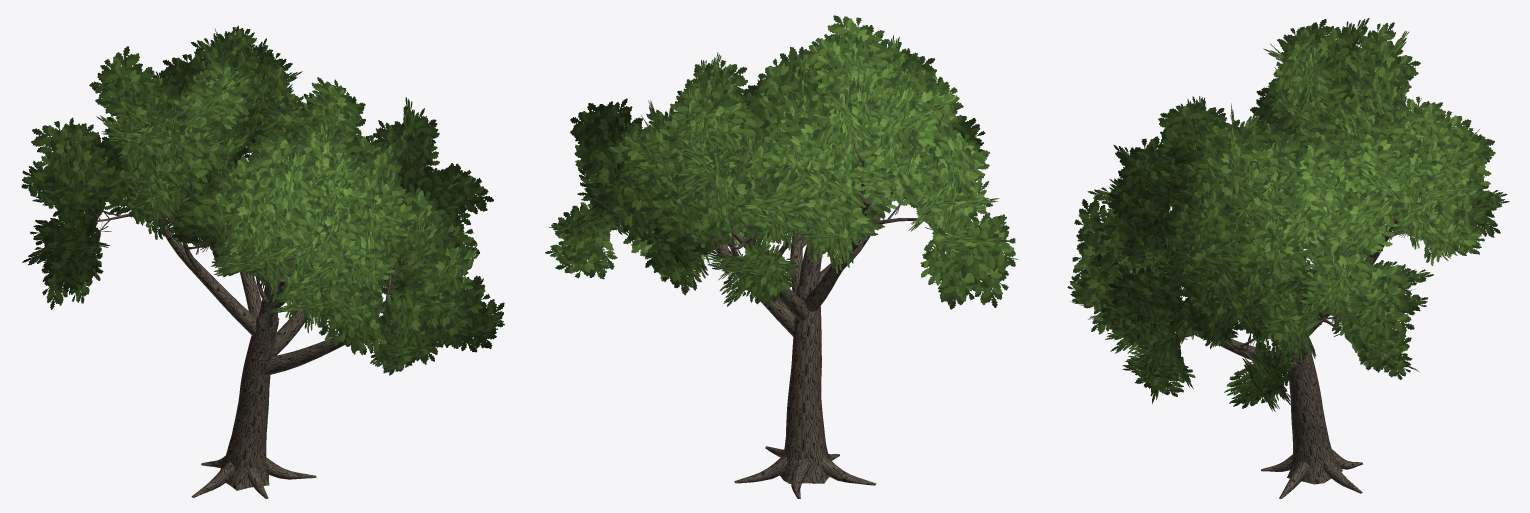
Rendered from oak-tree.glb.
The picture shows the model from 3 angles, left to right: view 1: azimuth 30°, elevation 25°; view 2: azimuth 150°, elevation 25°; view 3: azimuth 270°, elevation 25°; orthographic projection. The views are drawn at different scales.
Visible parts, largest first — view 1: Leaves, Trunk; view 2: Leaves, Trunk; view 3: Leaves, Trunk.
Part boxes in pixels (x1=…): Leaves: x1=21, y1=25, x2=504, y2=375; Trunk: x1=89, y1=204, x2=397, y2=498; Leaves: x1=545, y1=15, x2=1018, y2=309; Trunk: x1=686, y1=134, x2=942, y2=498; Leaves: x1=1067, y1=18, x2=1509, y2=411; Trunk: x1=1152, y1=99, x2=1421, y2=498.
Bounding box in the file's own units: 12.79 × 11.91 × 11.48.
2 materials, 2 textured.
